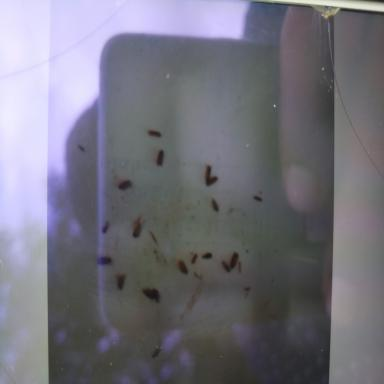pbw: (142, 287, 156, 298), (230, 251, 238, 269), (96, 256, 112, 265), (178, 260, 188, 274), (118, 180, 131, 190), (156, 150, 164, 166), (133, 222, 141, 238), (118, 274, 125, 290), (152, 289, 160, 302), (206, 176, 217, 185), (212, 198, 219, 212), (222, 260, 230, 272), (205, 164, 211, 180), (148, 130, 161, 137), (152, 347, 160, 358), (202, 252, 212, 259), (102, 223, 109, 233), (191, 254, 197, 264), (253, 196, 262, 202), (78, 144, 84, 152)
